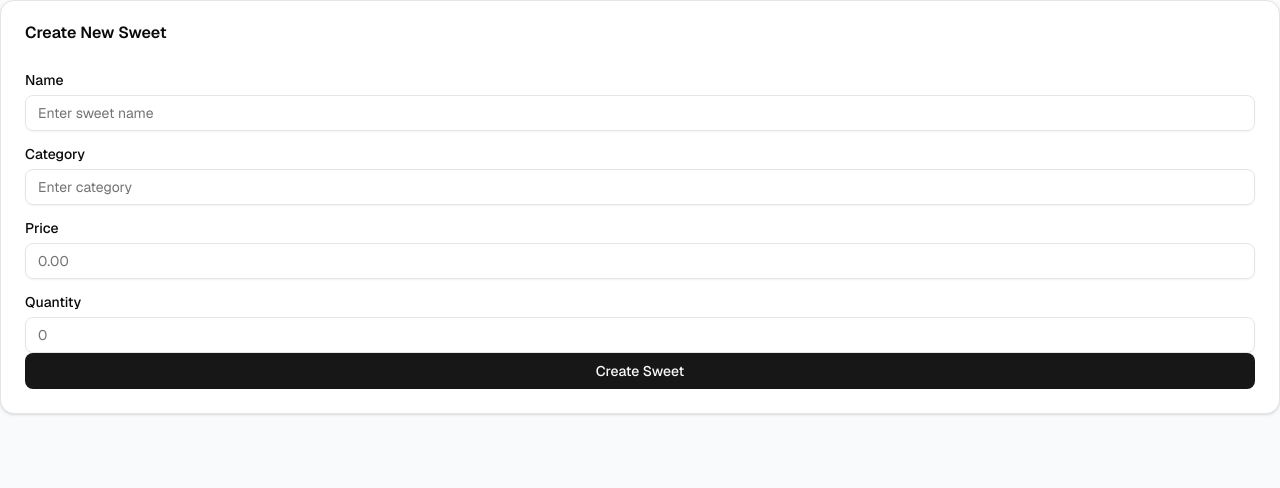
AdminForm › validates numeric values for price and quantity
In the field labelled "Name": (640, 113) [25,95,1255,131], type "Test Sweet"
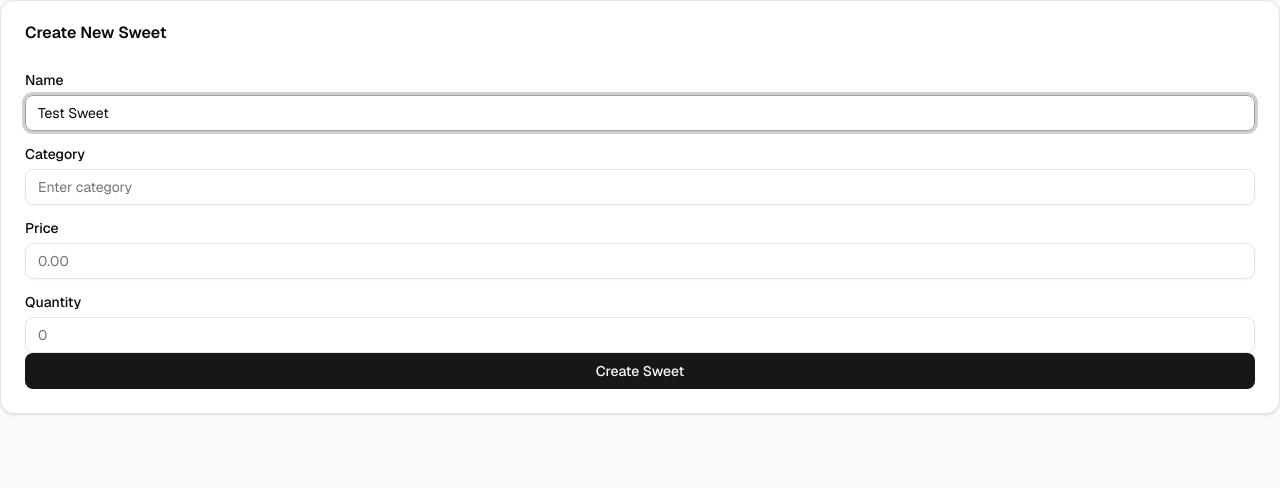
In the field labelled "Category": (640, 187) [25,169,1255,205], type "Test"
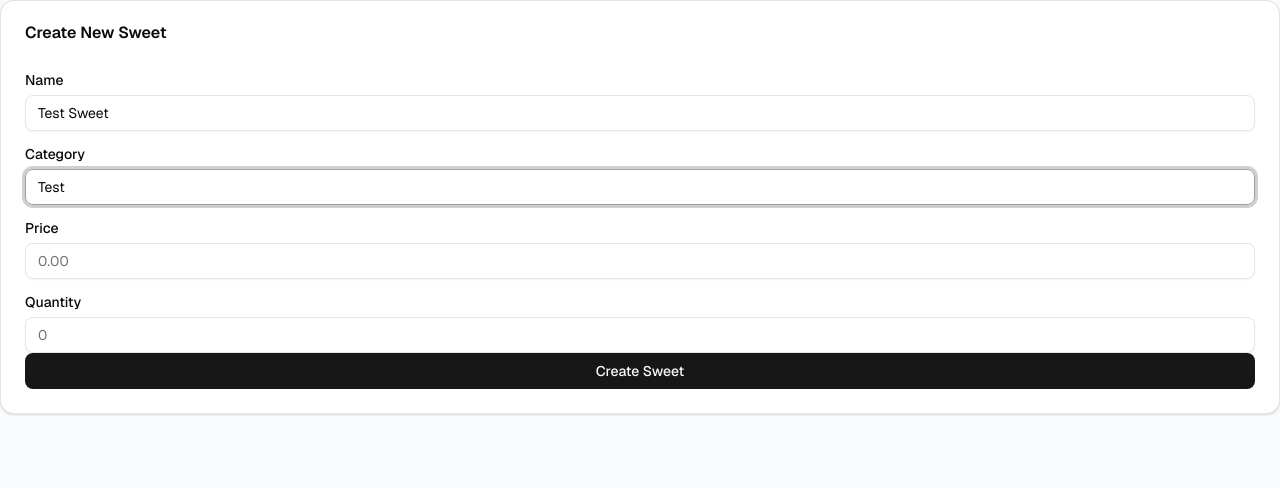
In the number field labelled "Price": (640, 261) [25,243,1255,279], type "-5"
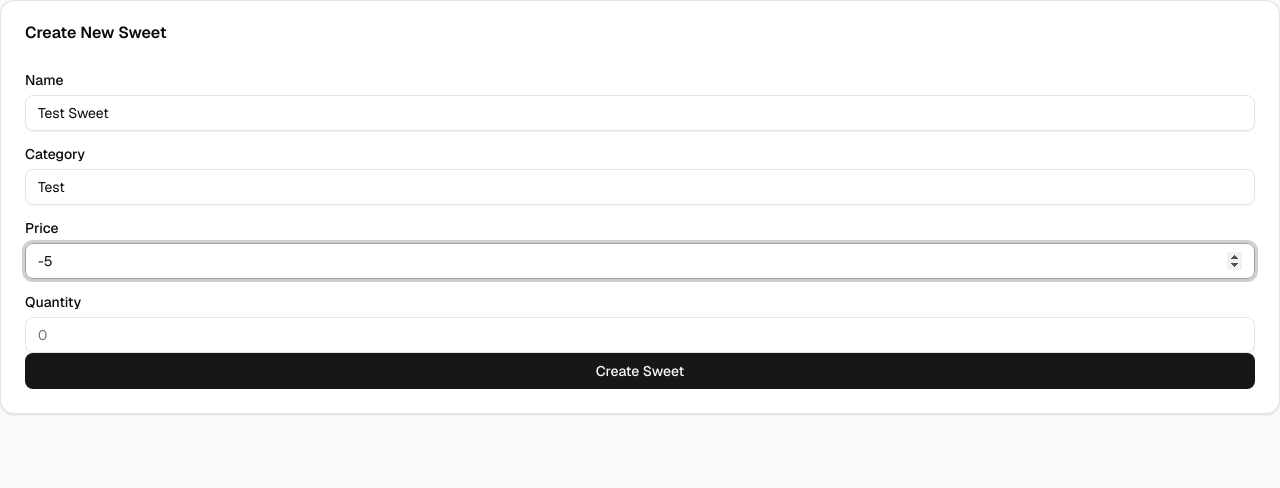
In the number field labelled "Quantity": (640, 335) [25,317,1255,353], type "-10"
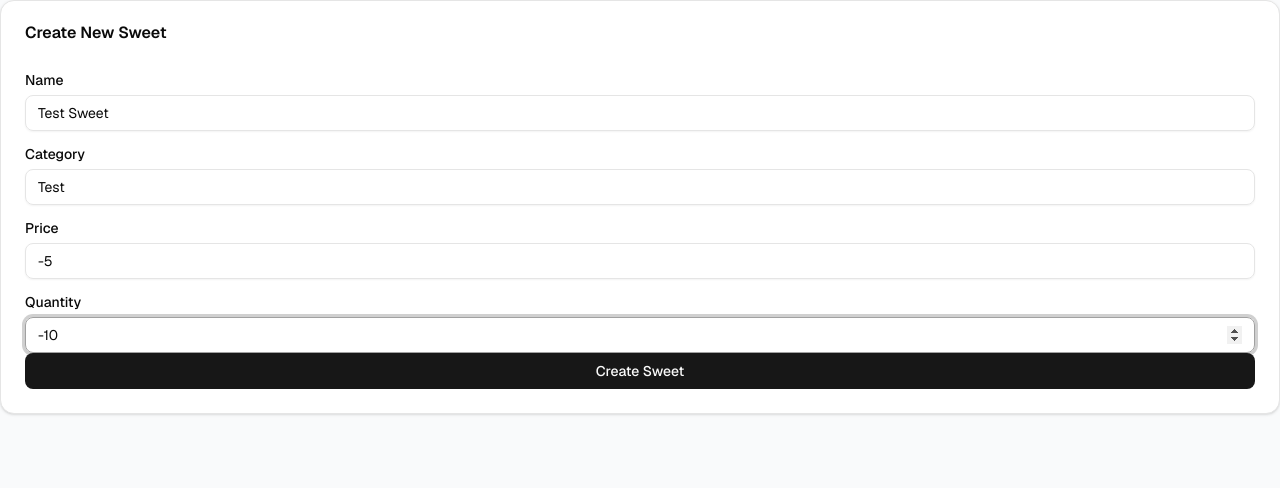
Click the button "Create Sweet": (640, 371) [25,353,1255,389]
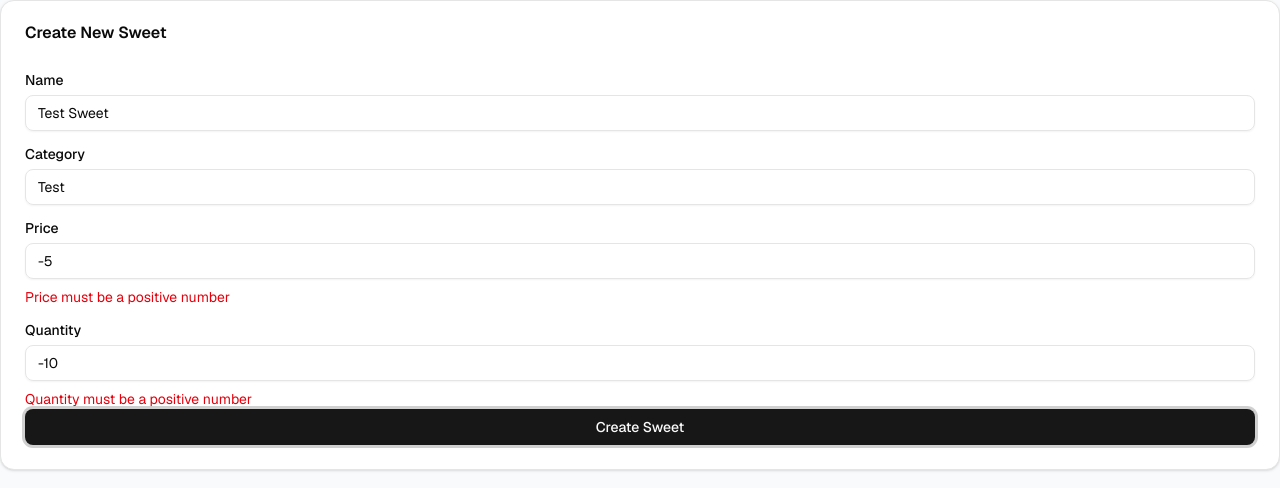
Result: the text "Price must be a positive number" is shown at [25,288,230,306]
